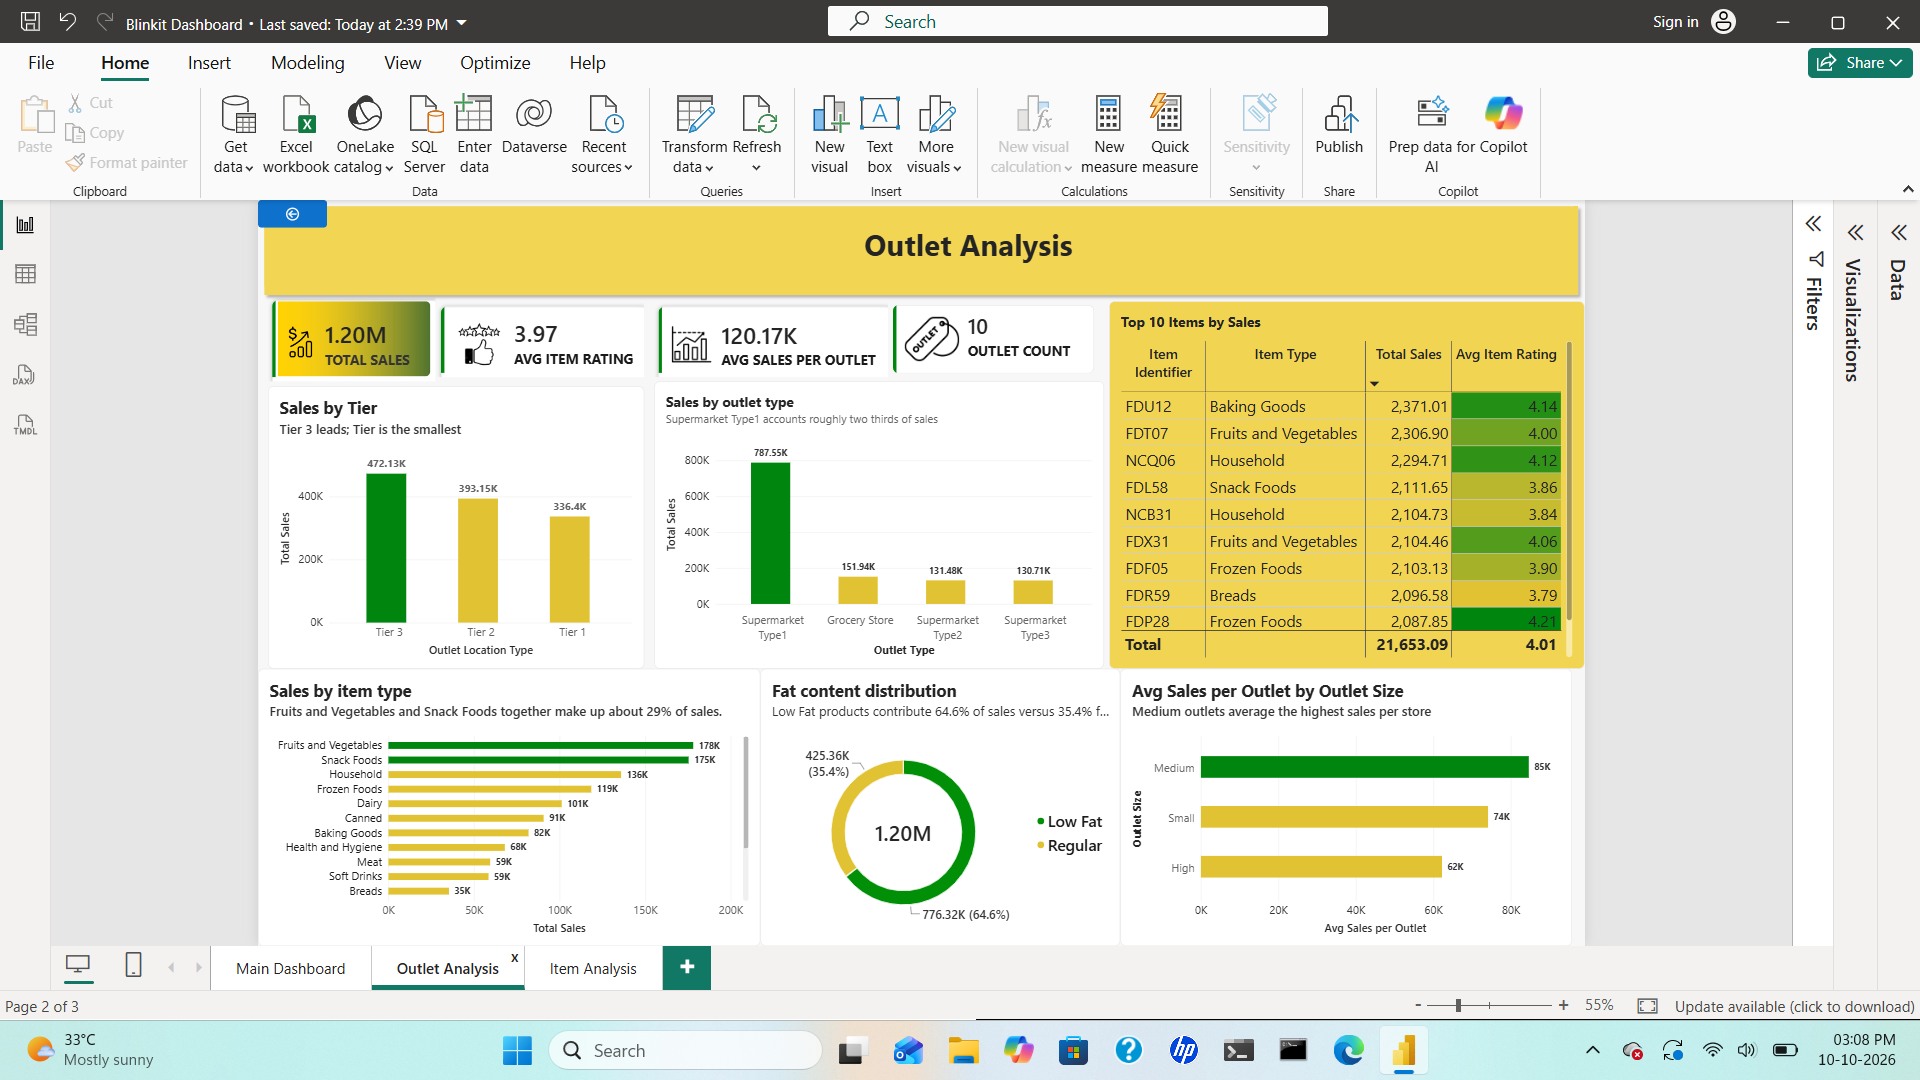

The page's visual inventory and layout, read from the dashboard file:
{"tool":"powerbi","page":{"name":"Outlet Analysis","canvas":[1920,1080],"ordinal":1},"visuals":[{"type":"shape","box":[0,0,1920.1,146.6],"z":0},{"type":"textbox","box":[877.7,34.4,322.1,77.8],"z":1000},{"type":"cardVisual","fields":{"Data":["BlinkIT Grocery Data.Total Sales"]},"box":[14.5,139.3,242.5,123.1],"z":2000},{"type":"cardVisual","fields":{"Data":["BlinkIT Grocery Data.Average Item Rating"]},"box":[258.8,148.4,300.4,108.6],"z":3000},{"type":"cardVisual","fields":{"Data":["BlinkIT Grocery Data.Average Sales per Outlet"]},"box":[573.7,148.4,338.4,108.6],"z":4000},{"type":"cardVisual","fields":{"Data":["BlinkIT Grocery Data.Outlet Count"]},"box":[919.3,152,291.4,99.5],"z":5000},{"type":"clusteredColumnChart","title":"Sales by Tier","fields":{"Category":["Outlet Location.Outlet Location Type"],"Y":["BlinkIT Grocery Data.Total Sales"]},"box":[14.5,269.6,544.7,409],"z":6000},{"type":"clusteredColumnChart","title":"Sales by outlet type","fields":{"Category":["Outlet Info.Outlet Type"],"Y":["Sum(BlinkIT Grocery Data.Sales)"]},"box":[573.7,262.4,651.5,416.2],"z":7000},{"type":"barChart","title":"Avg Sales per Outlet by Outlet Size","fields":{"Category":["Outlet Info.Outlet Size"],"Y":["BlinkIT Grocery Data.Average Sales per Outlet"]},"box":[1248.7,678.6,653.3,401.7],"z":8000},{"type":"barChart","title":"Sales by item type","fields":{"Category":["Items.Item Type"],"Y":["BlinkIT Grocery Data.Total Sales"]},"box":[0,678.6,727.5,401.7],"z":9000},{"type":"tableEx","title":"Top 10 Items by Sales","fields":{"Values":["BlinkIT Grocery Data.Item Identifier","Items.Item Type","Sum(BlinkIT Grocery Data.Sales)","BlinkIT Grocery Data.Average Item Rating"]},"box":[1232.4,146.6,687.7,532],"z":10000},{"type":"actionButton","box":[0,0,100,40],"z":11000},{"type":"donutChart","title":"Fat content distribution","fields":{"Category":["Items Content.Item Fat Content"],"Y":["BlinkIT Grocery Data.Total Sales"]},"box":[727.5,678.6,521.2,401.7],"z":12000}]}

Visuals, with their boxes on the page's 1920x1080 design canvas (x1, y1, x2, y2). These are canvas units, not pixel positions in the 1920x1080 screenshot, which may show the page scaled, cropped or inside an application window:
shape: {"left": 0, "top": 0, "right": 1920, "bottom": 147}
textbox: {"left": 878, "top": 34, "right": 1200, "bottom": 112}
cardVisual - BlinkIT Grocery Data.Total Sales: {"left": 14, "top": 139, "right": 257, "bottom": 262}
cardVisual - BlinkIT Grocery Data.Average Item Rating: {"left": 259, "top": 148, "right": 559, "bottom": 257}
cardVisual - BlinkIT Grocery Data.Average Sales per Outlet: {"left": 574, "top": 148, "right": 912, "bottom": 257}
cardVisual - BlinkIT Grocery Data.Outlet Count: {"left": 919, "top": 152, "right": 1211, "bottom": 252}
"Sales by Tier" clusteredColumnChart: {"left": 14, "top": 270, "right": 559, "bottom": 679}
"Sales by outlet type" clusteredColumnChart: {"left": 574, "top": 262, "right": 1225, "bottom": 679}
"Avg Sales per Outlet by Outlet Size" barChart: {"left": 1249, "top": 679, "right": 1902, "bottom": 1080}
"Sales by item type" barChart: {"left": 0, "top": 679, "right": 728, "bottom": 1080}
"Top 10 Items by Sales" tableEx: {"left": 1232, "top": 147, "right": 1920, "bottom": 679}
actionButton: {"left": 0, "top": 0, "right": 100, "bottom": 40}
"Fat content distribution" donutChart: {"left": 728, "top": 679, "right": 1249, "bottom": 1080}
